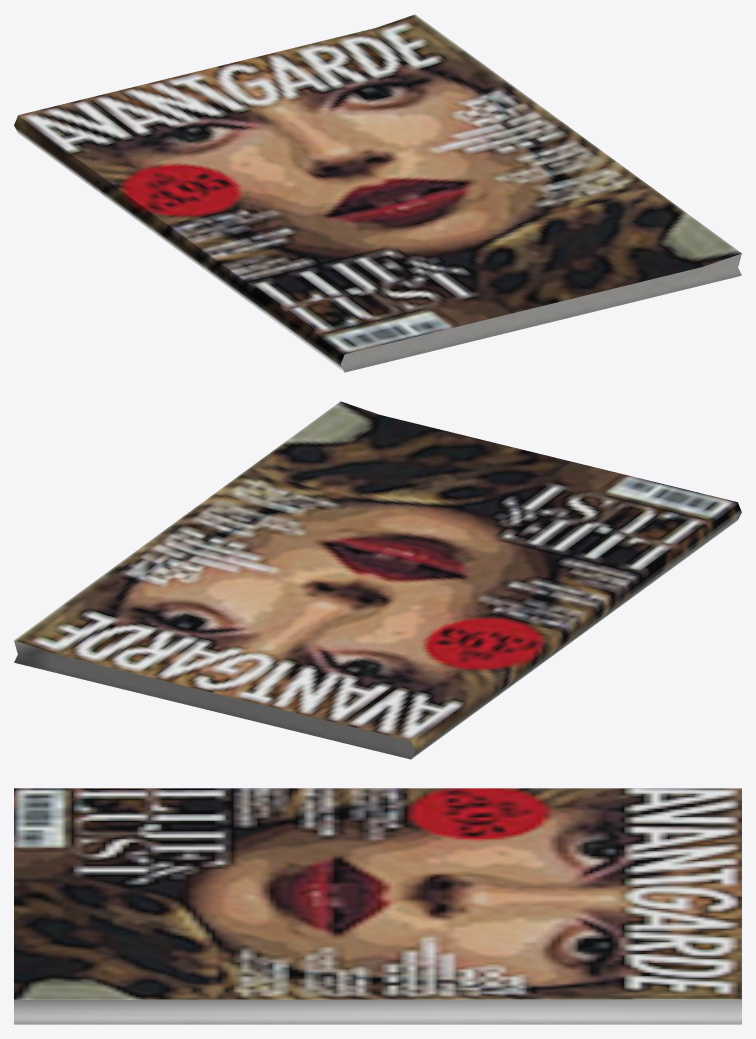
File: CeSuo_01_zazhi_01.FBX
3 views of the same model, one above another, from view 1: azimuth 30°, elevation 25°; view 2: azimuth 150°, elevation 25°; view 3: azimuth 270°, elevation 25° (orthographic). The views are drawn at different scales.
Parts seen in each view (by area): view 1: CeSuo_01_zazhi_03; view 2: CeSuo_01_zazhi_03; view 3: CeSuo_01_zazhi_03.
Boxes of the visible parts, x1,y1,x2,y2 form: CeSuo_01_zazhi_03: [14, 14, 741, 372]; CeSuo_01_zazhi_03: [14, 401, 741, 759]; CeSuo_01_zazhi_03: [14, 788, 741, 1024].
Size of the model in its own units: 176 by 9.3 by 248.
